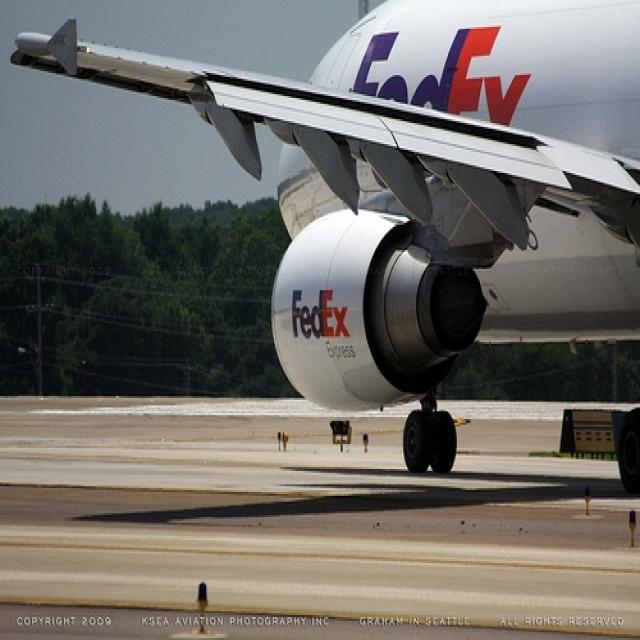fedex: (347, 14, 536, 128), (290, 285, 356, 345)
